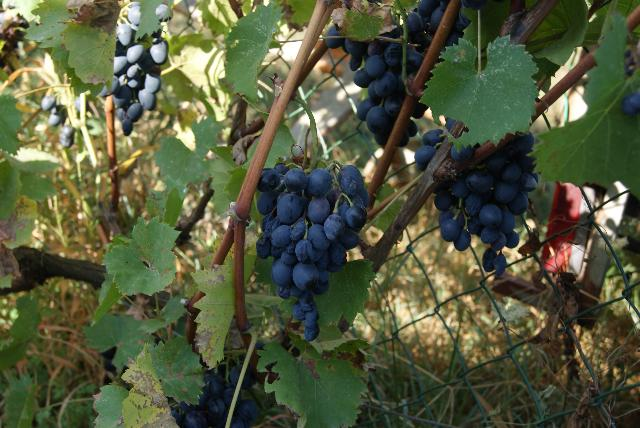grapes: (256, 165, 369, 341), (344, 0, 449, 146), (434, 132, 539, 275)
